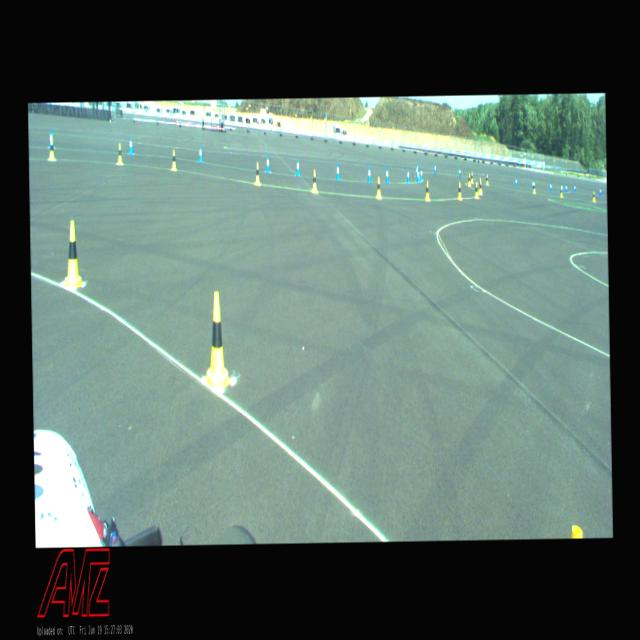blue_cone: (48, 129, 54, 149), (295, 158, 300, 176), (265, 154, 270, 172), (128, 136, 133, 154), (198, 144, 202, 162), (336, 162, 340, 180), (385, 166, 389, 182), (367, 166, 371, 182), (416, 168, 420, 182), (406, 167, 409, 183), (415, 162, 418, 177), (419, 167, 422, 180), (458, 166, 460, 178), (434, 162, 436, 174), (564, 182, 566, 192), (514, 176, 516, 186), (550, 182, 552, 192), (531, 180, 533, 190), (573, 183, 575, 192), (599, 187, 601, 196), (560, 183, 562, 192)
yellow_cone: (202, 291, 232, 388), (64, 220, 82, 286), (48, 140, 56, 160), (170, 149, 177, 170), (116, 142, 122, 164), (375, 176, 381, 198), (311, 170, 317, 192), (254, 162, 260, 184), (425, 180, 430, 200), (458, 181, 462, 199), (474, 182, 478, 198), (478, 178, 482, 192), (592, 190, 596, 201), (485, 174, 488, 185), (470, 172, 473, 183), (532, 182, 535, 193), (468, 174, 470, 186), (560, 186, 562, 198)
